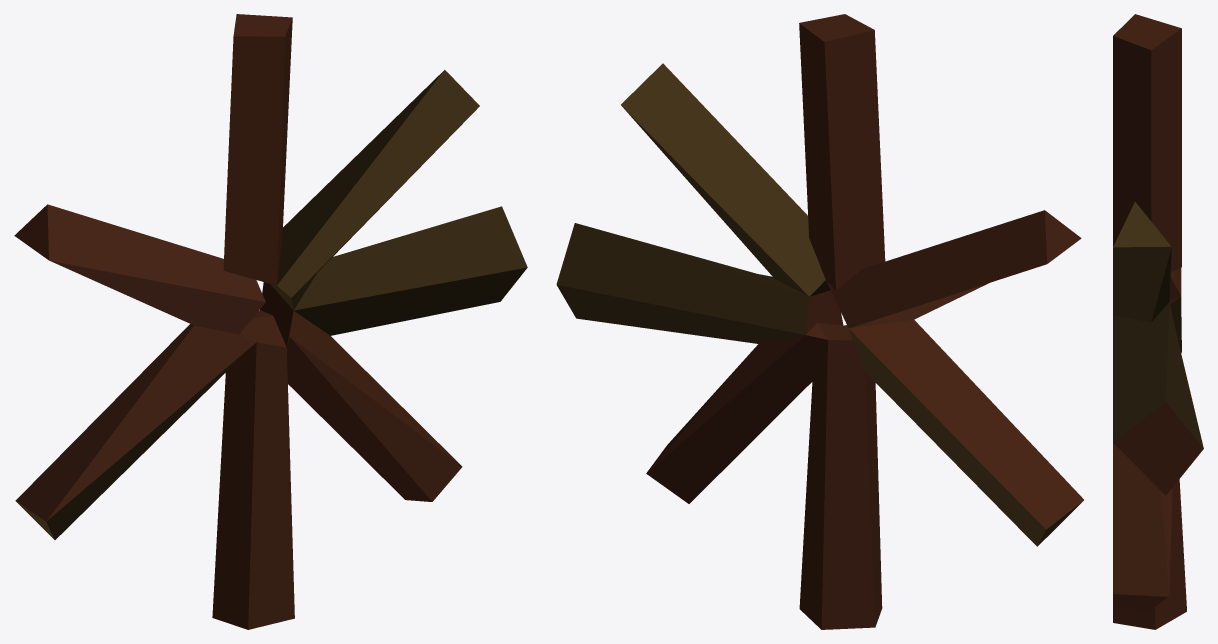
The model's file is winter_night_campfire.fbx.
The picture shows the model from 3 angles, left to right: view 1: azimuth 30°, elevation 25°; view 2: azimuth 150°, elevation 25°; view 3: azimuth 270°, elevation 25°; orthographic projection.
Visible parts, largest first — view 1: winter_night_campfire; view 2: winter_night_campfire; view 3: winter_night_campfire.
Part boxes in pixels (<box>): winter_night_campfire: <box>14,14,527,629</box>; winter_night_campfire: <box>556,14,1083,629</box>; winter_night_campfire: <box>1113,14,1203,629</box>.
Size of the model in its own units: 45.54 by 52.92 by 7.46.
